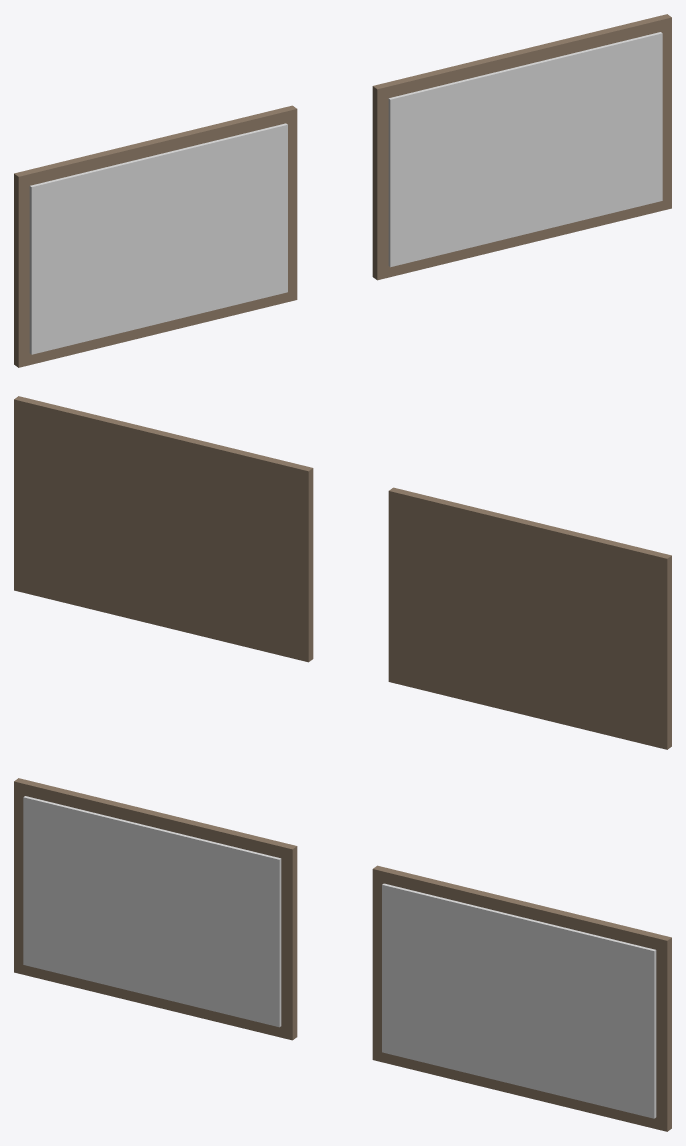
File: cuadro.glb
The picture shows the model from 3 angles, top to bottom: view 1: azimuth 30°, elevation 25°; view 2: azimuth 150°, elevation 25°; view 3: azimuth 330°, elevation 25°; orthographic projection.
Visible parts, largest first — view 1: Cuadro_170x100, Cuadro_160x100; view 2: Cuadro_170x100, Cuadro_160x100; view 3: Cuadro_170x100, Cuadro_160x100.
Part boxes in pixels (x1,y1,x2,y2): Cuadro_170x100: (372,14,671,280); Cuadro_160x100: (14,105,297,367); Cuadro_170x100: (14,396,313,662); Cuadro_160x100: (388,487,671,749); Cuadro_170x100: (372,865,671,1131); Cuadro_160x100: (14,778,297,1040).
Size of the model in its own units: 4.08 by 1.14 by 0.07.
